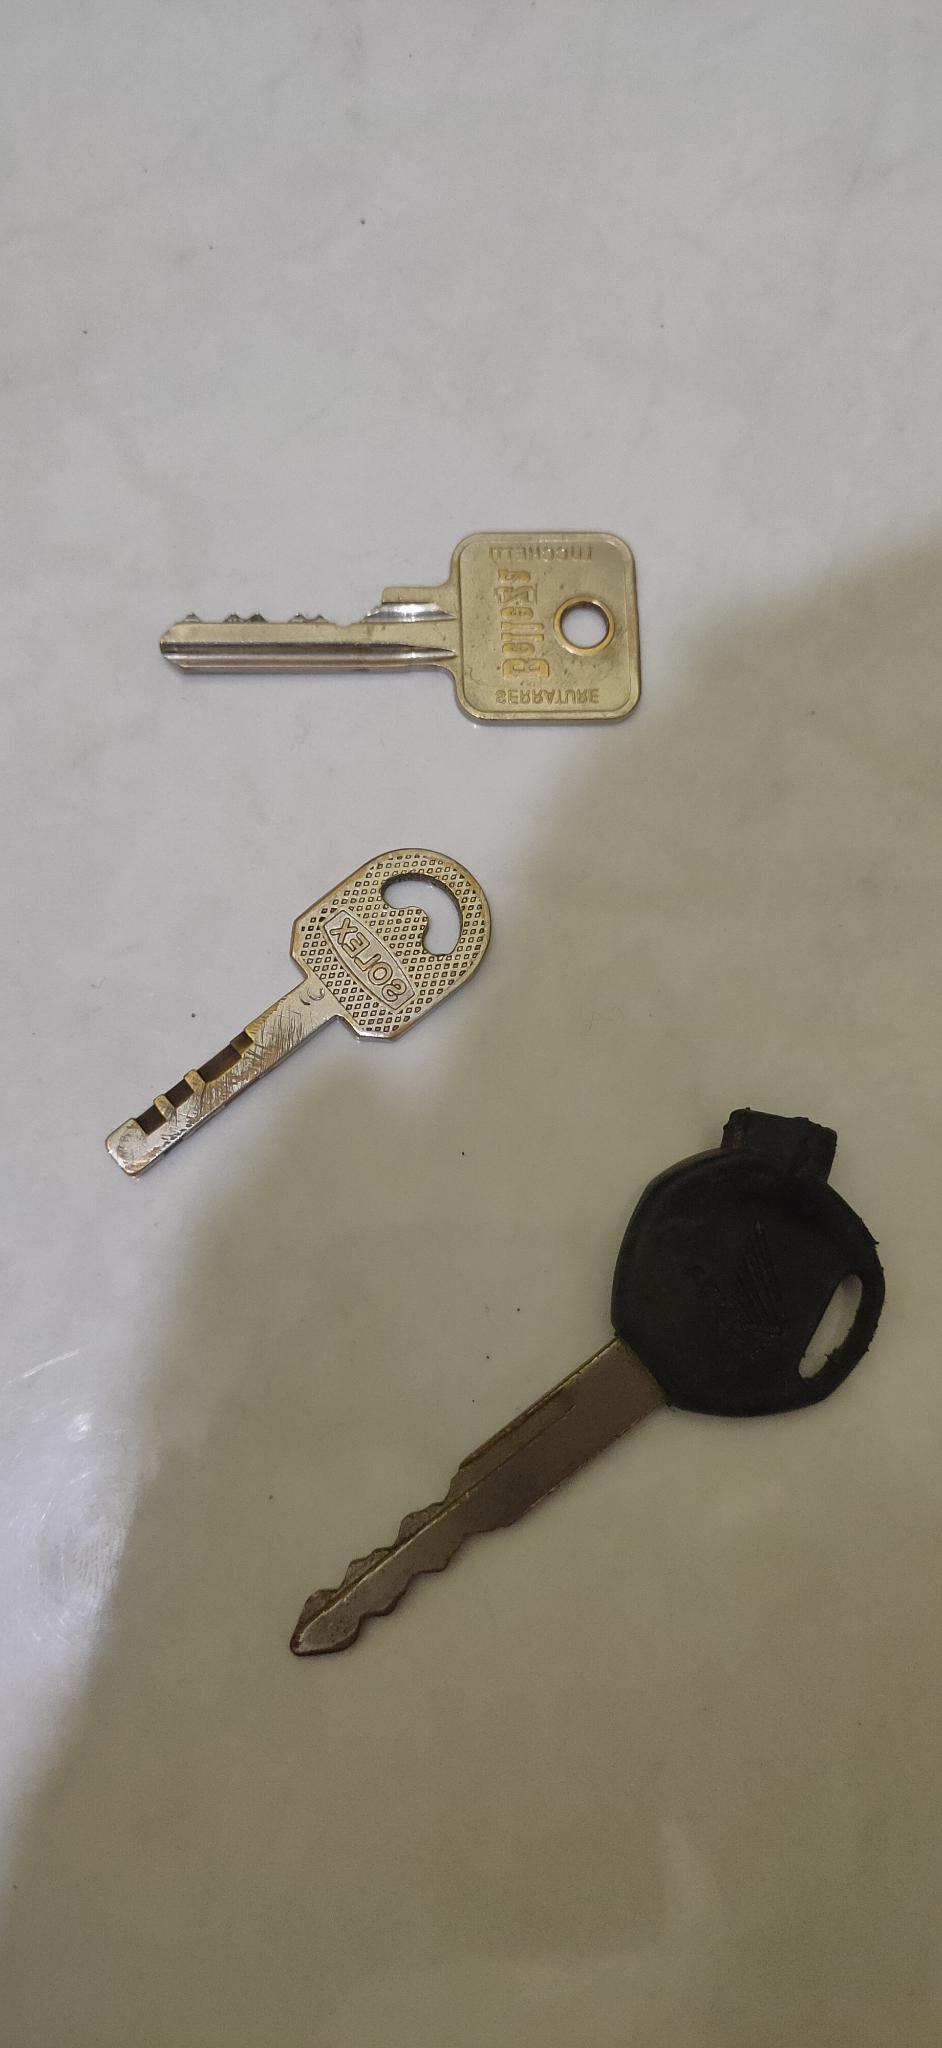keys: (281, 1076, 899, 1674), (72, 815, 500, 1224), (138, 488, 669, 754)
